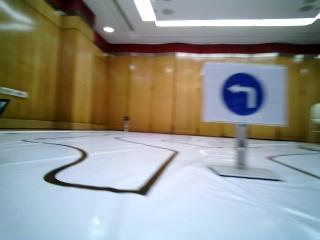left: (207, 64, 282, 124)
